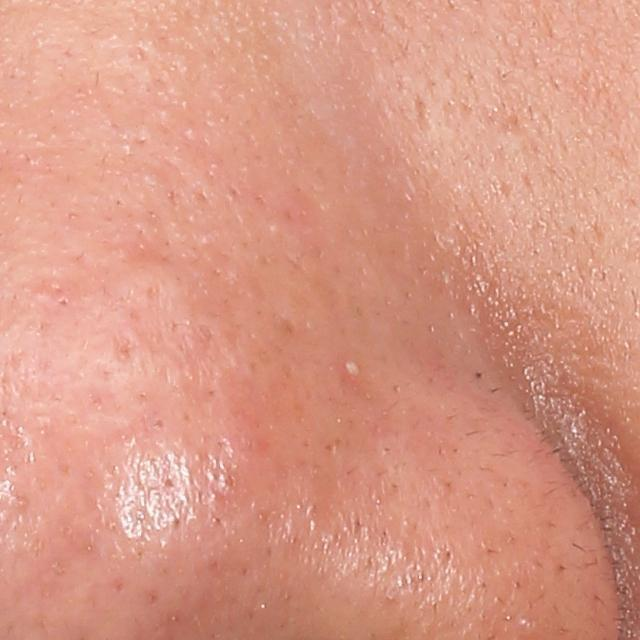atrophic_scar: (414, 95, 433, 134)
pustule: (340, 354, 367, 382)
